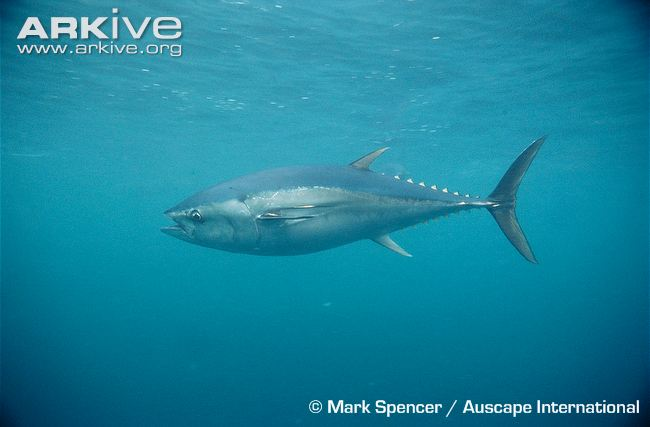Bluefina Tuna: (132, 110, 556, 294)
